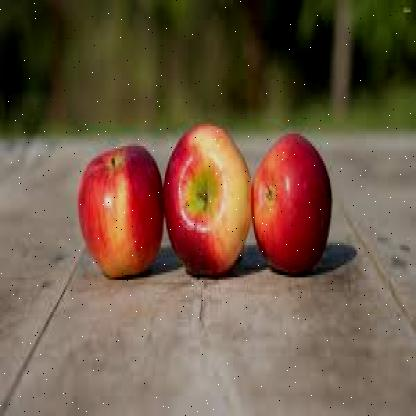apple: (165, 124, 251, 278), (249, 119, 332, 277), (75, 144, 161, 280)
